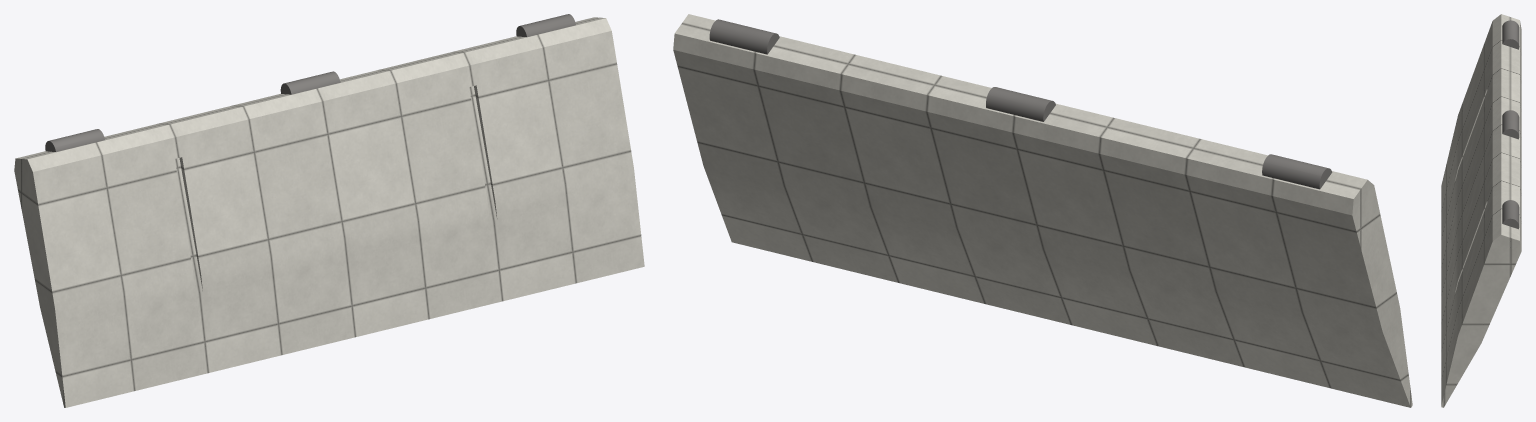
File: ax_aero_23_cse_elevon_s_defl_neg.glb
3 renders of one model, left to right at view 1: azimuth 30°, elevation 25°; view 2: azimuth 150°, elevation 25°; view 3: azimuth 270°, elevation 25°, orthographic. The views are drawn at different scales.
Visible parts, largest first — view 1: surface, hinge_fittings; view 2: surface, hinge_fittings; view 3: surface, hinge_fittings.
Boxes of the visible parts, x1,y1,x2,y2 form: surface: (14, 17, 644, 407); hinge_fittings: (45, 14, 575, 151); surface: (673, 14, 1412, 407); hinge_fittings: (709, 19, 1332, 189); surface: (1441, 14, 1521, 407); hinge_fittings: (1502, 20, 1519, 229).
Size of the model in its own units: 1.18 by 0.4435 by 0.1819.
Materials: 2 (2 with a texture image).
